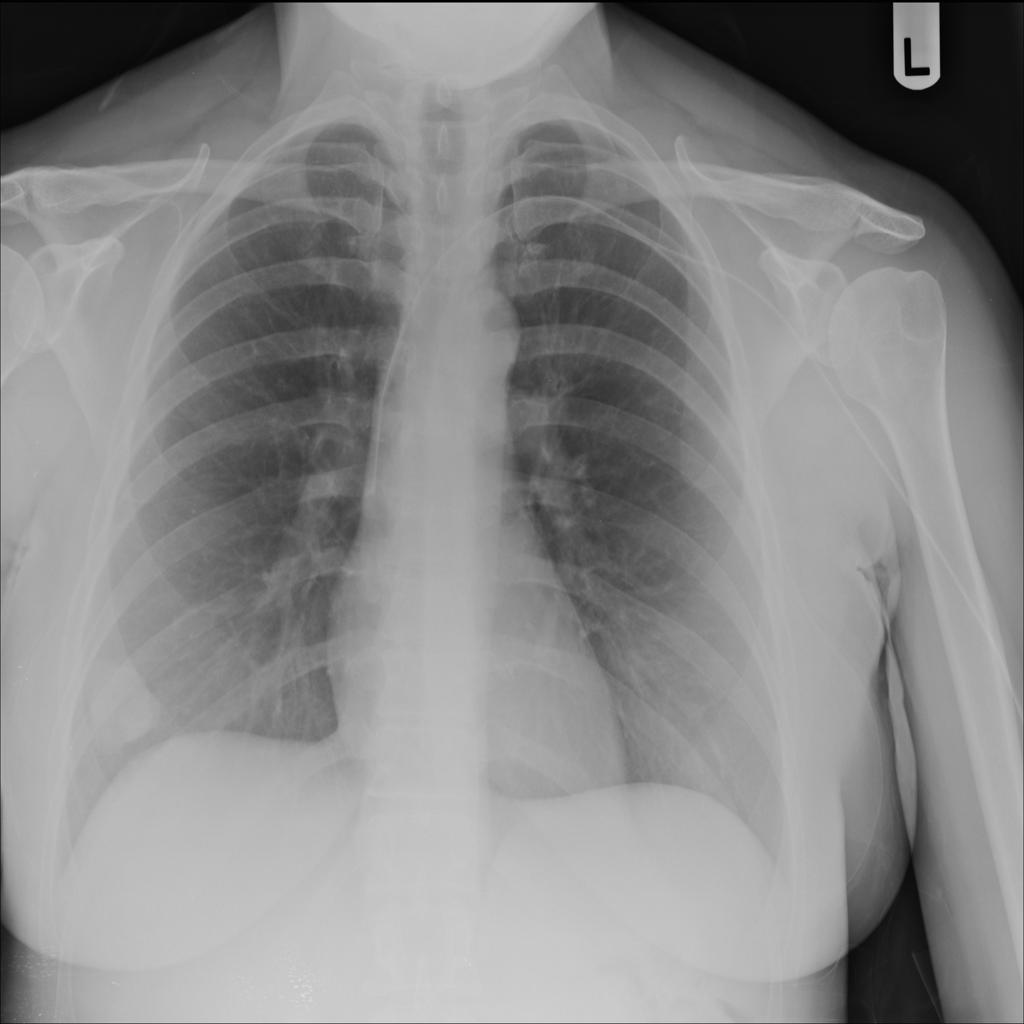nodule: (77, 643, 182, 766)
